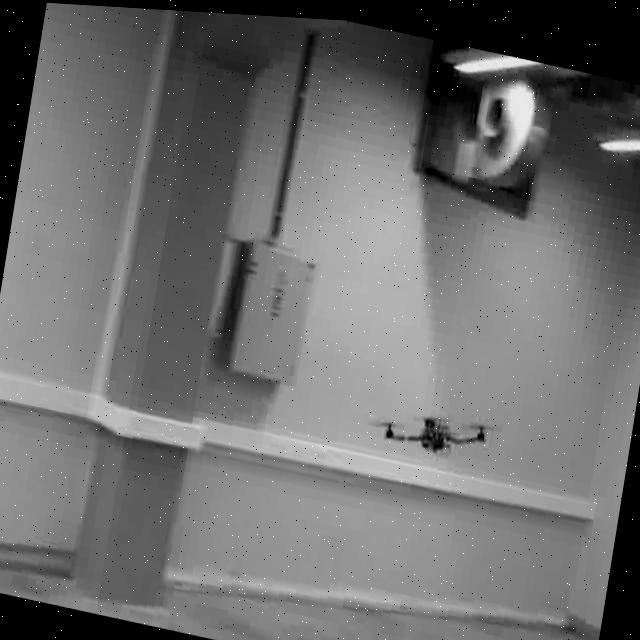drone: (372, 392, 496, 466)
